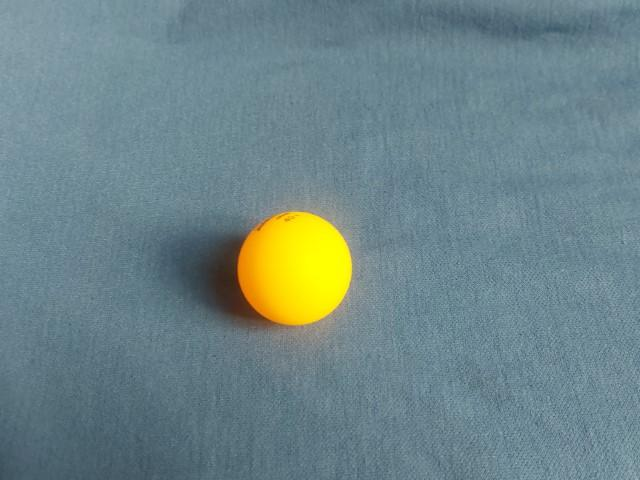oball: (281, 148, 408, 277)
